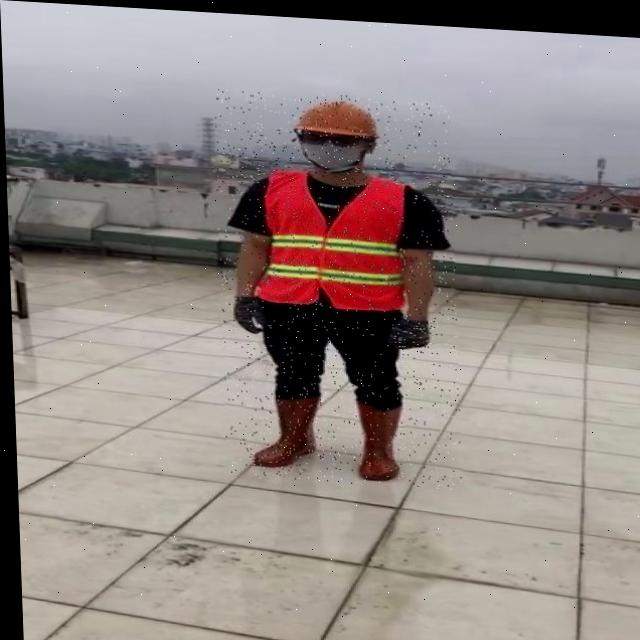Gloves: (387, 312, 429, 346), (232, 292, 266, 331)
Helmet: (291, 94, 380, 170)
Safety-Boot: (248, 387, 320, 466), (353, 393, 402, 477)
Safety-Vest: (249, 163, 411, 309)
